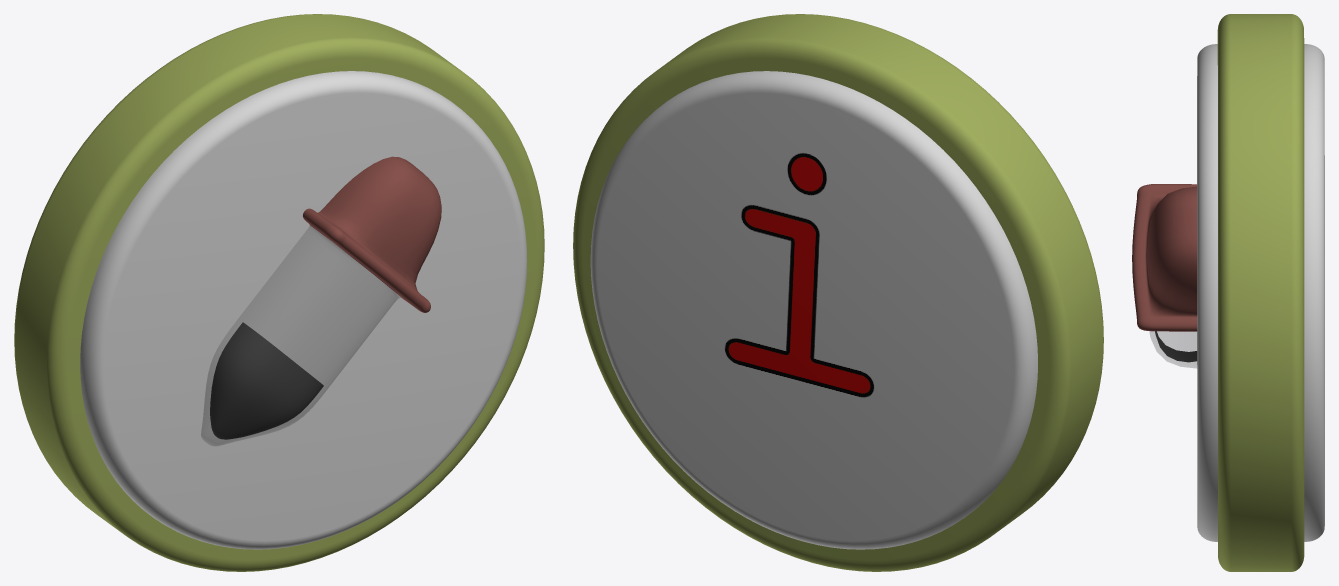
File: ink.gltf
3 views of the same model, side by side, from view 1: azimuth 30°, elevation 25°; view 2: azimuth 150°, elevation 25°; view 3: azimuth 270°, elevation 25° (orthographic). The views are drawn at different scales.
Parts seen in each view (by area): view 1: Cylinder_2, Cylinder.001, Cube, Cube.001; view 2: Cylinder_2, Cylinder.001; view 3: Cylinder.001, Cylinder_2, Cube, Cube.001.
Boxes of the visible parts, x1,y1,x2,y2 form: Cylinder_2: (80,71,527,549); Cylinder.001: (14,14,544,571); Cube: (201,156,441,445); Cube.001: (210,322,323,439); Cylinder_2: (590,71,1037,549); Cylinder.001: (573,14,1103,571); Cylinder.001: (1217,14,1304,571); Cylinder_2: (1197,44,1324,541); Cube: (1132,184,1197,368); Cube.001: (1155,331,1197,362).
Size of the model in its own units: 2.56 by 2.56 by 0.8837.
Materials: 5 (1 with a texture image).
